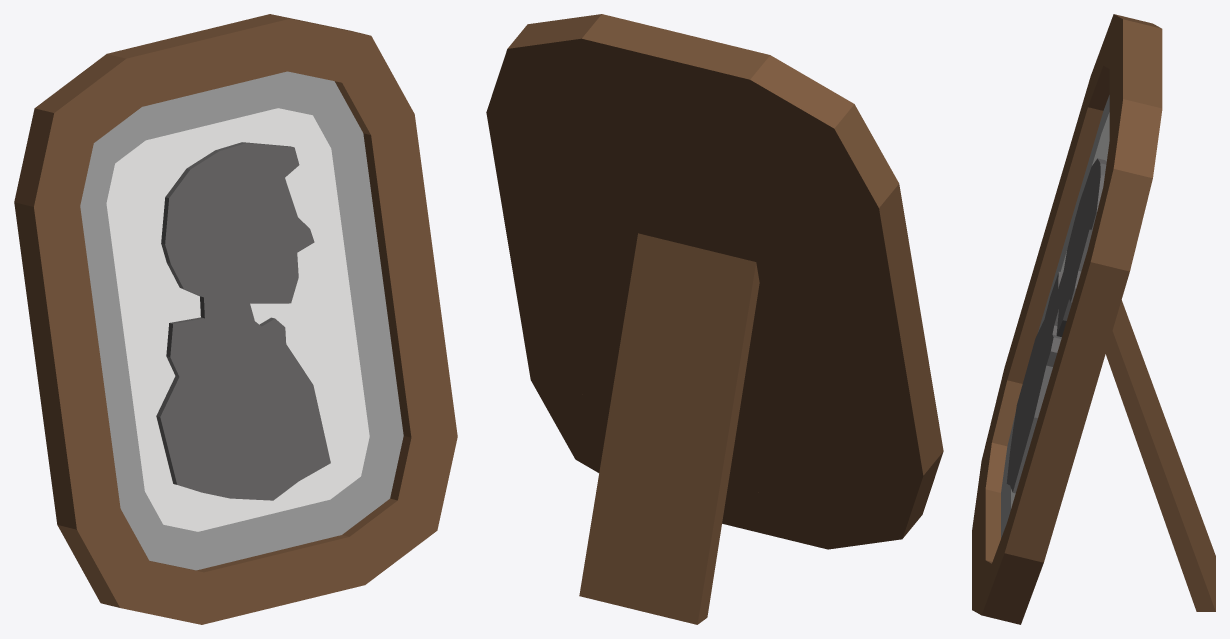
File: Photoframe_2.fbx
3 views of the same model, side by side, from view 1: azimuth 30°, elevation 25°; view 2: azimuth 150°, elevation 25°; view 3: azimuth 270°, elevation 25° (orthographic). The views are drawn at different scales.
Parts seen in each view (by area): view 1: Photoframe_2; view 2: Photoframe_2; view 3: Photoframe_2.
Boxes of the visible parts, x1=… form: Photoframe_2: x1=14, y1=14, x2=457, y2=624; Photoframe_2: x1=486, y1=14, x2=943, y2=624; Photoframe_2: x1=972, y1=14, x2=1215, y2=624.
Size of the model in its own units: 19.41 by 10.76 by 25.56.
